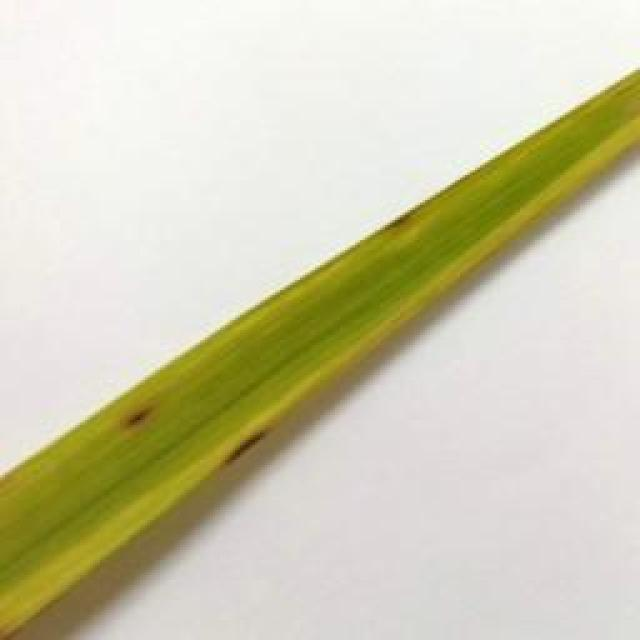Brown_Spot: (220, 419, 284, 473), (116, 399, 163, 433), (380, 204, 416, 242)
